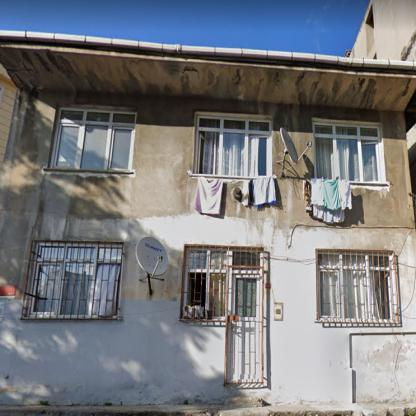door: (231, 274, 261, 382)
window: (29, 242, 121, 314), (186, 248, 260, 318), (50, 110, 136, 169), (318, 253, 392, 318), (194, 118, 270, 175), (316, 124, 379, 179)
